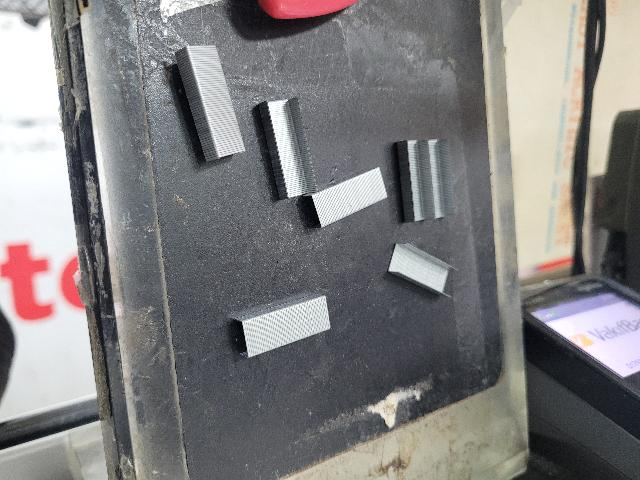Metal: (170, 38, 244, 170), (251, 95, 321, 196), (226, 293, 335, 355), (302, 166, 391, 233), (394, 140, 459, 229), (383, 239, 456, 302)
